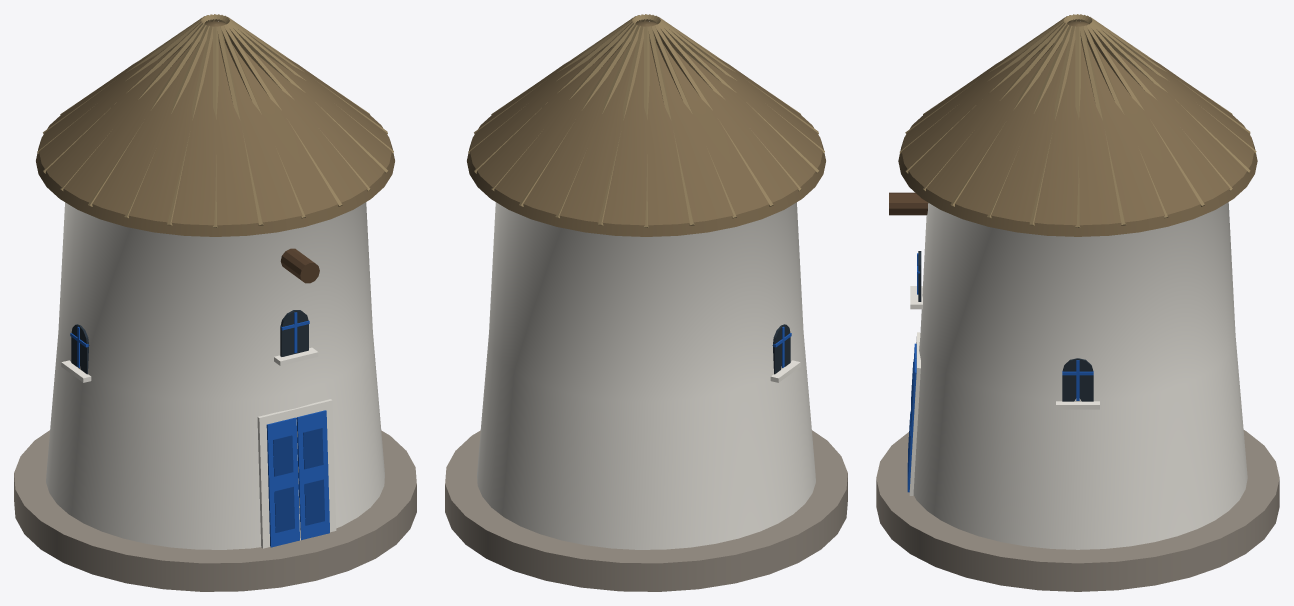
The model's file is windmill.glb.
3 views of the same model, side by side, from view 1: azimuth 30°, elevation 25°; view 2: azimuth 150°, elevation 25°; view 3: azimuth 270°, elevation 25° (orthographic).
Parts seen in each view (by area): view 1: white1, thatch2, stone0, white27, blue28, blue31, pane36, wood53, deep32, deep29, straw12, straw10 (+12 smaller); view 2: white1, thatch2, stone0, straw20, straw18, straw22, straw16, straw21, straw17, straw19, straw14, pane41 (+3 smaller); view 3: white1, thatch2, stone0, pane47, wood53, straw4, straw26, white27, straw6, straw24, straw5, straw3 (+5 smaller).
Boxes of the visible parts, box(x1,y1,x2,y2) form: white1: box(46, 202, 384, 549); thatch2: box(36, 21, 394, 236); stone0: box(14, 430, 416, 591); white27: box(257, 399, 336, 548); blue28: box(266, 417, 299, 547); blue31: box(296, 410, 329, 540); pane36: box(280, 310, 308, 356); wood53: box(280, 248, 319, 283); deep32: box(304, 479, 324, 525); deep29: box(274, 486, 294, 532); straw12: box(167, 26, 213, 225); straw10: box(217, 26, 263, 225); white1: box(477, 202, 815, 549); thatch2: box(467, 21, 825, 236); stone0: box(445, 430, 847, 591); straw20: box(598, 26, 644, 225); straw18: box(648, 26, 694, 225); straw22: box(519, 24, 637, 206); straw16: box(655, 24, 773, 206); straw21: box(555, 25, 640, 218); straw17: box(652, 25, 736, 218); straw19: box(644, 26, 649, 227); straw14: box(658, 21, 818, 173); pane41: box(772, 324, 790, 374); white1: box(913, 202, 1247, 549); thatch2: box(898, 21, 1257, 236); stone0: box(876, 430, 1279, 591); pane47: box(1062, 358, 1093, 401); wood53: box(889, 192, 928, 215); straw4: box(1029, 26, 1075, 225); straw26: box(1079, 26, 1126, 225); white27: box(909, 332, 920, 495); straw6: box(950, 24, 1068, 206); straw24: box(1086, 24, 1204, 206); straw5: box(987, 25, 1072, 218); straw3: box(1075, 26, 1080, 227).
Size of the model in its own units: 6.4 by 8.52 by 6.4.
